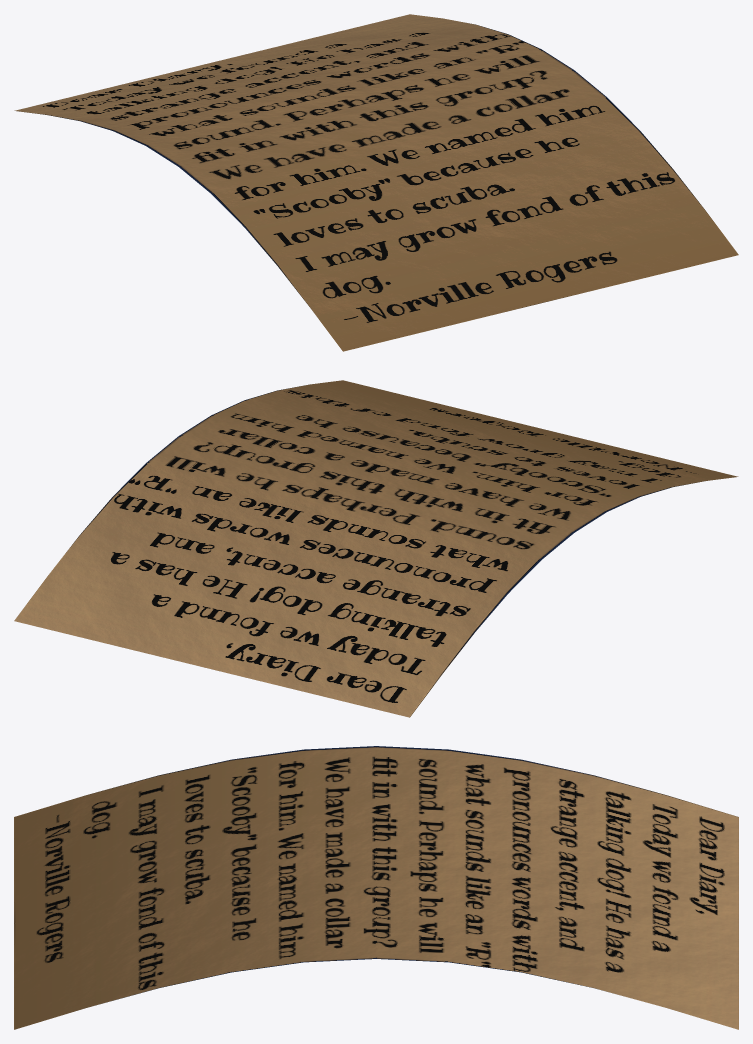
The model's file is clue3.fbx.
3 views of the same model, one above another, from view 1: azimuth 30°, elevation 25°; view 2: azimuth 150°, elevation 25°; view 3: azimuth 270°, elevation 25° (orthographic). The views are drawn at different scales.
Visible parts, largest first — view 1: DiaryPage2; view 2: DiaryPage2; view 3: DiaryPage2.
Part boxes in pixels (x1,y1,x2,y2): DiaryPage2: (14, 14, 738, 351); DiaryPage2: (14, 380, 738, 717); DiaryPage2: (14, 746, 738, 1029).
Bounding box in the file's own units: 0.6949 × 0.1081 × 1.
